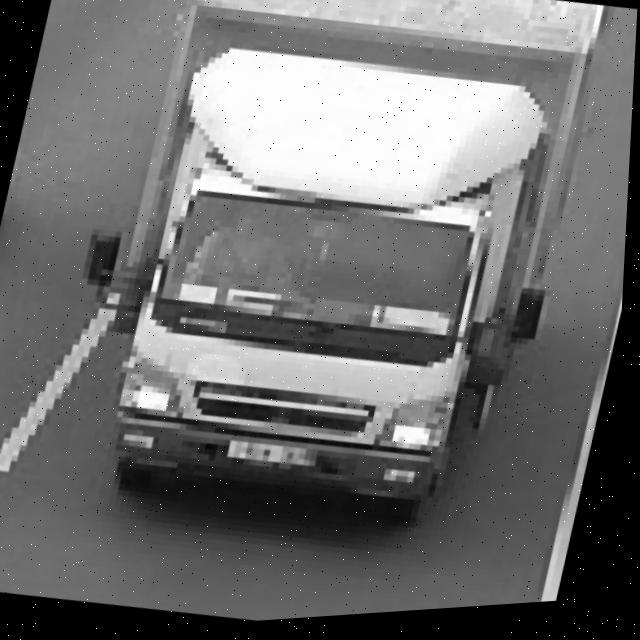truck: (38, 2, 600, 568)
